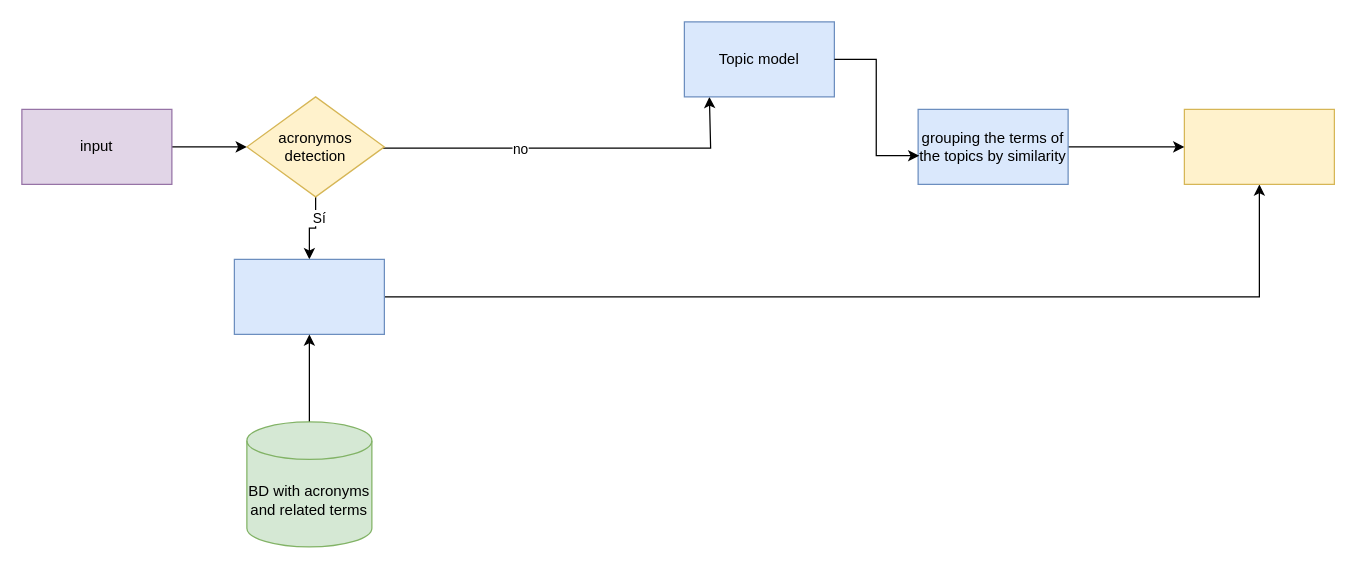
This 1356x569 diagram has some shape labels left out. The box of each missing label's shape, as (x1, y1, x2, y2) in pixels:
Count frequency of topics obtained: (1183, 108, 1334, 184)
Search for terms related to acronyms: (233, 258, 384, 334)
